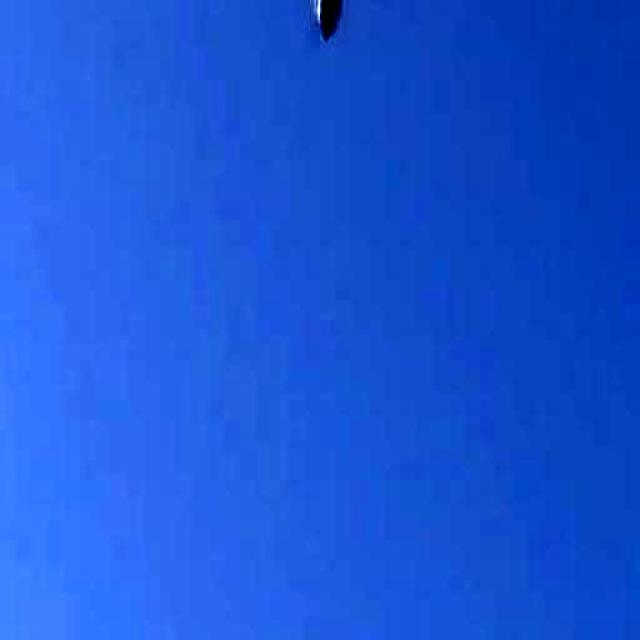drone: (258, 0, 420, 71)
